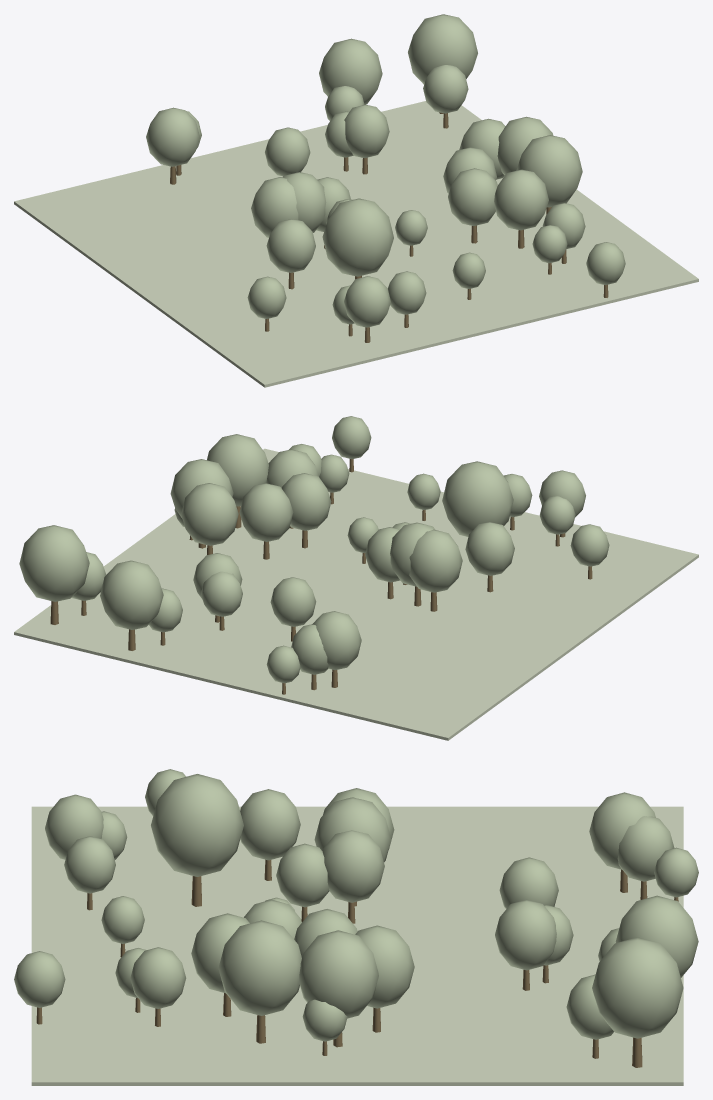
3 views of the same model, one above another, from view 1: azimuth 30°, elevation 25°; view 2: azimuth 150°, elevation 25°; view 3: azimuth 270°, elevation 25° (orthographic). The views are drawn at different scales.
Visible parts, largest first — view 1: terrain, lod-near-9, lod-near-27, lod-near-20, lod-near-19, lod-near-11, lod-near-14, lod-near-29, lod-near-26, lod-near-24, lod-near-21, lod-near-3 (+16 smaller); view 2: terrain, lod-near-27, lod-near-9, lod-near-19, lod-near-5, lod-near-24, lod-near-20, lod-near-7, lod-near-26, lod-near-29, lod-near-14, lod-near-23 (+18 smaller); view 3: terrain, lod-near-9, lod-near-27, lod-near-20, lod-near-31, lod-near-19, lod-near-15, lod-near-21, lod-near-26, lod-near-5, lod-near-8, lod-near-14 (+19 smaller).
Boxes of the visible parts, box(x1,y1,x2,y2) form: terrain: box(14, 101, 698, 387); lod-near-9: box(322, 198, 393, 276); lod-near-27: box(408, 14, 477, 84); lod-near-20: box(516, 135, 582, 207); lod-near-19: box(319, 38, 382, 104); lod-near-11: box(494, 169, 548, 230); lod-near-14: box(146, 107, 199, 166); lod-near-29: box(448, 168, 497, 225); lod-near-26: box(266, 219, 315, 272); lod-near-24: box(251, 177, 298, 237); lod-near-21: box(344, 104, 389, 158); lod-near-3: box(344, 276, 390, 327); terrain: box(14, 448, 698, 740); lod-near-27: box(19, 525, 89, 601); lod-near-9: box(442, 461, 513, 536); lod-near-19: box(100, 560, 163, 629); lod-near-5: box(181, 483, 238, 545); lod-near-24: box(409, 529, 462, 592); lod-near-20: box(207, 434, 268, 506); lod-near-7: box(239, 483, 293, 541); lod-near-26: box(465, 522, 514, 575); lod-near-29: box(282, 473, 331, 530); lod-near-14: box(312, 611, 361, 670); lod-near-23: box(270, 577, 316, 626); terrain: box(31, 806, 683, 1085); lod-near-9: box(151, 774, 243, 876); lod-near-27: box(592, 937, 683, 1038); lod-near-20: box(218, 920, 301, 1015); lod-near-31: box(299, 930, 378, 1018); lod-near-19: box(615, 895, 698, 977); lod-near-15: box(322, 830, 384, 902); lod-near-21: box(495, 899, 556, 970); lod-near-26: box(240, 789, 300, 860); lod-near-5: box(355, 925, 414, 1008); lod-near-8: box(130, 947, 186, 1008); lod-near-14: box(589, 792, 655, 869).
Size of the model in its own units: 32.56 by 7.22 by 33.63.
